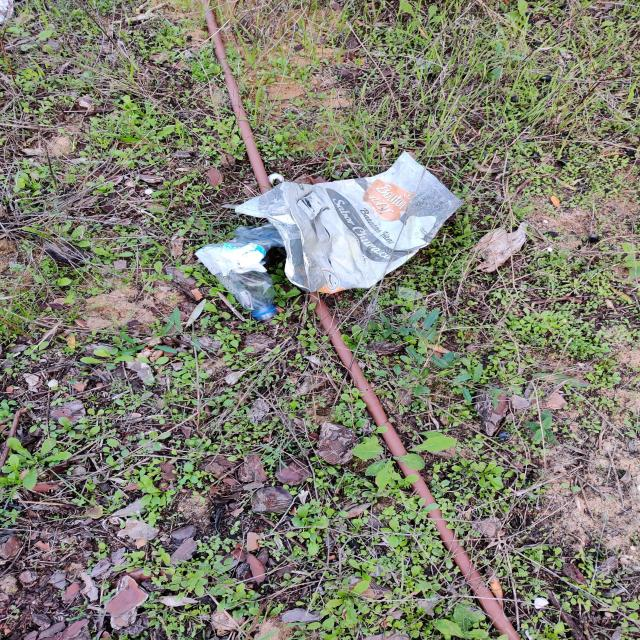litter: (236, 151, 464, 295), (197, 223, 283, 322)
